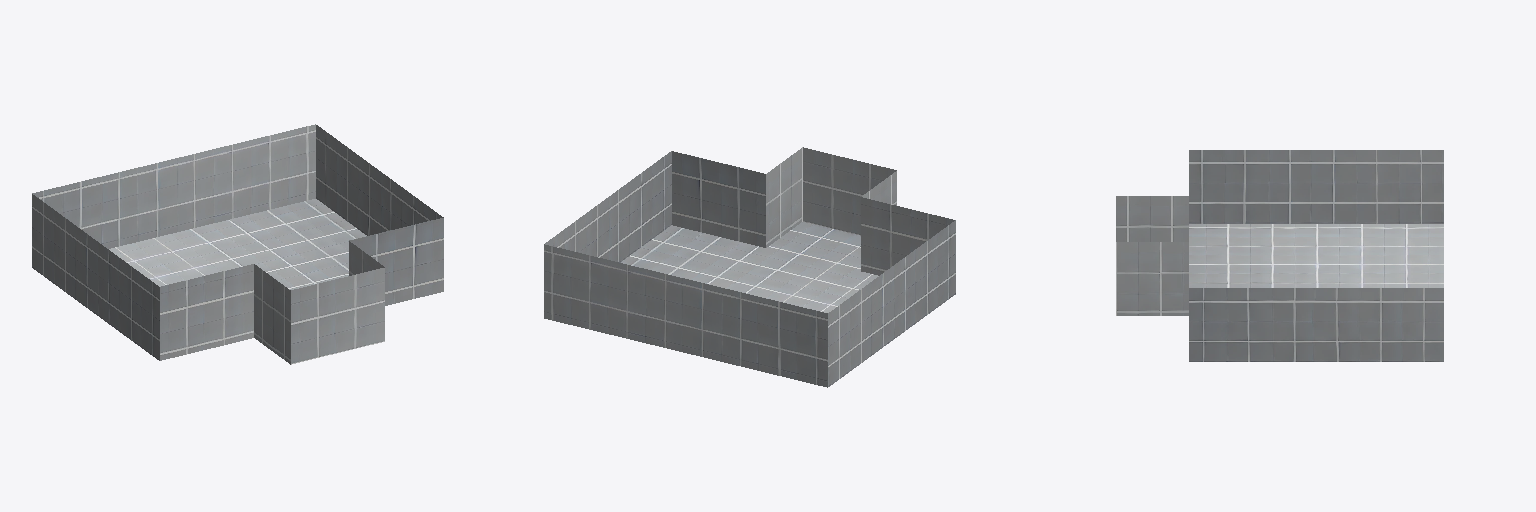
The picture shows the model from 3 angles: view 1: azimuth 30°, elevation 25°; view 2: azimuth 150°, elevation 25°; view 3: azimuth 270°, elevation 25°; orthographic projection.
Parts seen in each view (by area): view 1: Plane; view 2: Plane; view 3: Plane.
Part boxes in pixels (x1,y1,x2,y2): Plane: (32, 124, 443, 364); Plane: (544, 147, 955, 387); Plane: (1116, 150, 1443, 361).
Size of the model in its own units: 20 by 5 by 20.
1 materials, 1 textured.